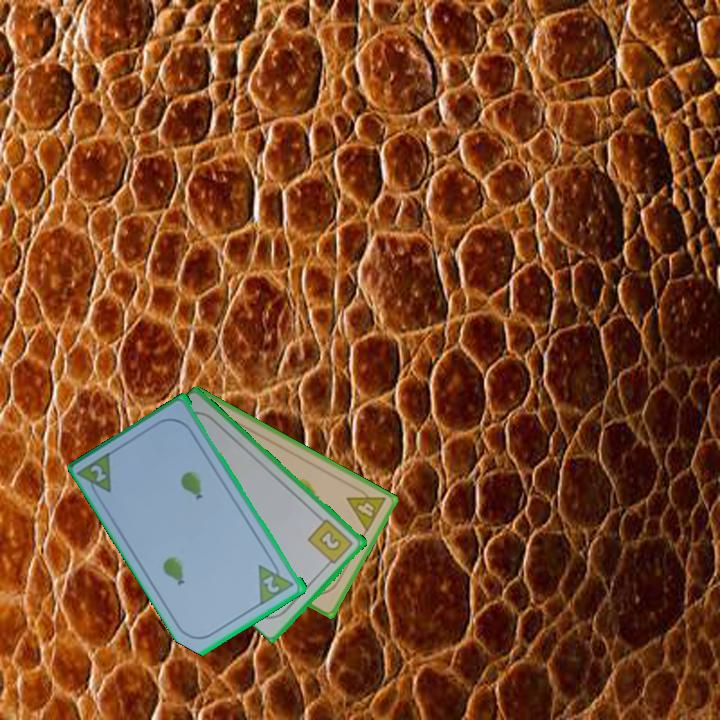2b: (305, 515, 356, 570)
2p: (260, 572, 283, 596), (87, 461, 110, 485)
4p: (343, 482, 389, 535)
